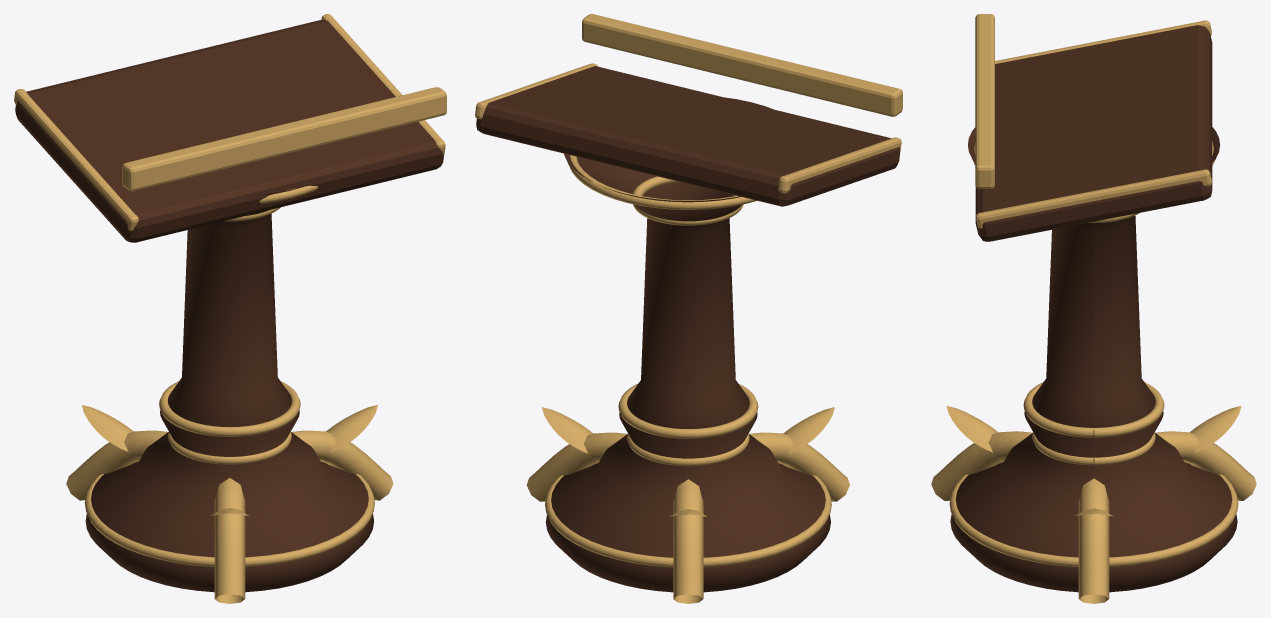
Rendered from lectern.glb.
3 renders of one model, left to right at view 1: azimuth 30°, elevation 25°; view 2: azimuth 150°, elevation 25°; view 3: azimuth 270°, elevation 25°, orthographic.
Parts seen in each view (by area): view 1: Turned reading pedestal, Angled bookrest, Raised book lip, Scroll foot.001, Lectern gilt bead, Scroll foot.002, Scroll foot, Gilded bookrest side, Lectern gilt bead.002, Lectern gilt bead.001, Foot carved acanthus, Foot carved acanthus.002 (+1 smaller); view 2: Turned reading pedestal, Angled bookrest, Raised book lip, Scroll foot.002, Lectern gilt bead, Scroll foot.001, Scroll foot, Lectern gilt bead.004, Lectern gilt bead.002, Gilded bookrest side, Lectern gilt bead.001, Foot carved acanthus.001 (+3 smaller); view 3: Turned reading pedestal, Angled bookrest, Scroll foot, Raised book lip, Lectern gilt bead, Gilded bookrest side.001, Scroll foot.001, Scroll foot.002, Lectern gilt bead.002, Lectern gilt bead.001, Foot carved acanthus.001, Foot carved acanthus.002 (+1 smaller).
Boxes of the visible parts, x1,y1,x2,y2 form: Turned reading pedestal: (85, 181, 373, 592); Angled bookrest: (15, 19, 444, 242); Raised book lip: (122, 87, 446, 191); Scroll foot.001: (214, 478, 245, 603); Lectern gilt bead: (84, 474, 374, 566); Scroll foot.002: (66, 430, 167, 500); Scroll foot: (292, 430, 393, 500); Gilded bookrest side: (14, 89, 138, 230); Lectern gilt bead.002: (159, 381, 300, 436); Lectern gilt bead.001: (168, 432, 291, 464); Foot carved acanthus: (326, 405, 377, 451); Foot carved acanthus.002: (81, 405, 133, 451); Turned reading pedestal: (545, 97, 830, 592); Angled bookrest: (476, 66, 899, 206); Raised book lip: (582, 14, 902, 116); Scroll foot.002: (673, 479, 703, 603); Lectern gilt bead: (545, 475, 831, 567); Scroll foot.001: (749, 432, 849, 501); Scroll foot: (526, 432, 626, 501); Lectern gilt bead.004: (567, 155, 756, 209); Lectern gilt bead.002: (618, 384, 758, 438); Gilded bookrest side: (778, 137, 901, 193); Lectern gilt bead.001: (627, 433, 749, 466); Foot carved acanthus.001: (783, 407, 834, 453); Turned reading pedestal: (950, 127, 1237, 592); Angled bookrest: (975, 25, 1212, 241); Scroll foot: (1078, 478, 1109, 603); Raised book lip: (975, 14, 994, 188); Lectern gilt bead: (949, 474, 1238, 567); Gilded bookrest side.001: (976, 169, 1211, 229); Scroll foot.001: (931, 431, 1032, 500); Scroll foot.002: (1155, 431, 1256, 500); Lectern gilt bead.002: (1023, 382, 1164, 437); Lectern gilt bead.001: (1032, 432, 1155, 465); Foot carved acanthus.001: (946, 406, 997, 452); Foot carved acanthus.002: (1190, 406, 1241, 452).
Bounding box in the file's own units: 0.8453 × 1.14 × 0.7485.
